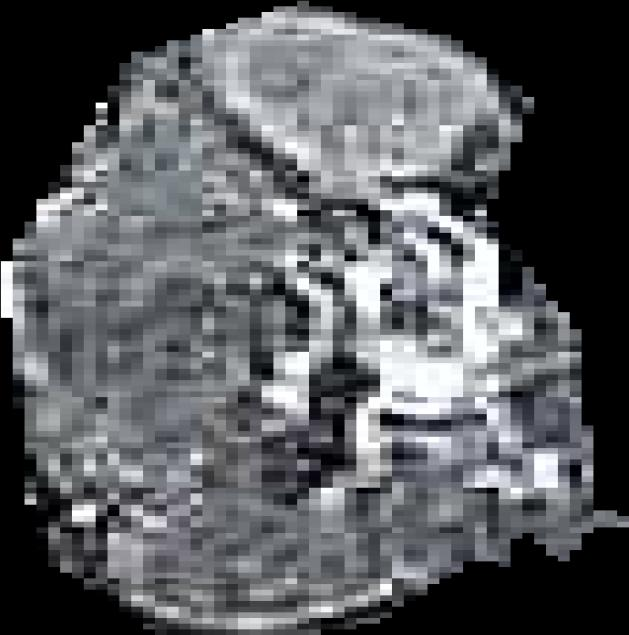tumor_good_chance: (1, 1, 629, 635)
